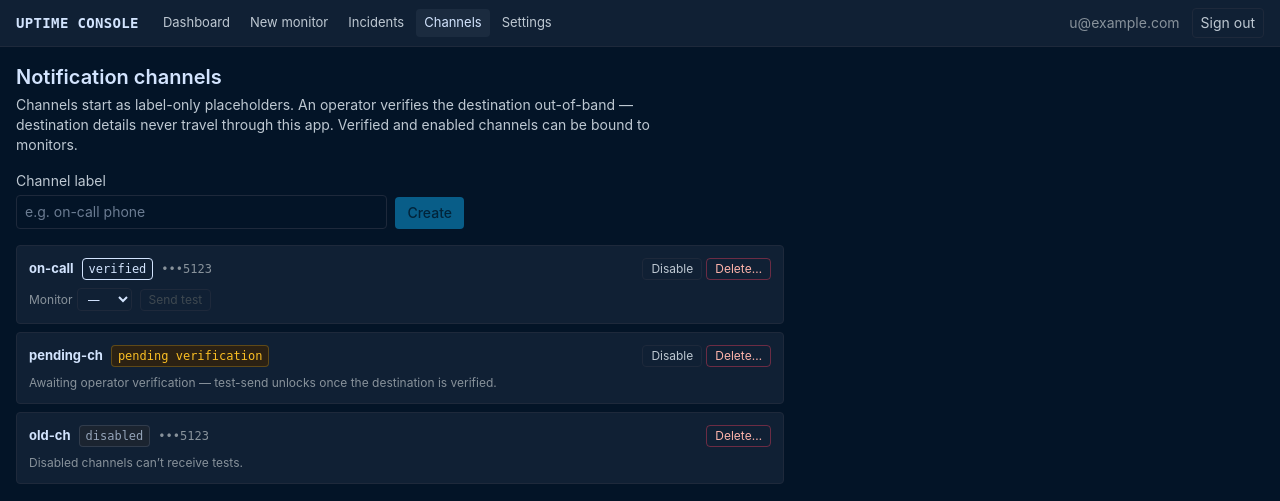
Test: channels page › duplicate-window 200 reports the earlier intent stands
Select "site" in the dropdown labelled "Monitor" at (104, 300), box [77,288,132,311]
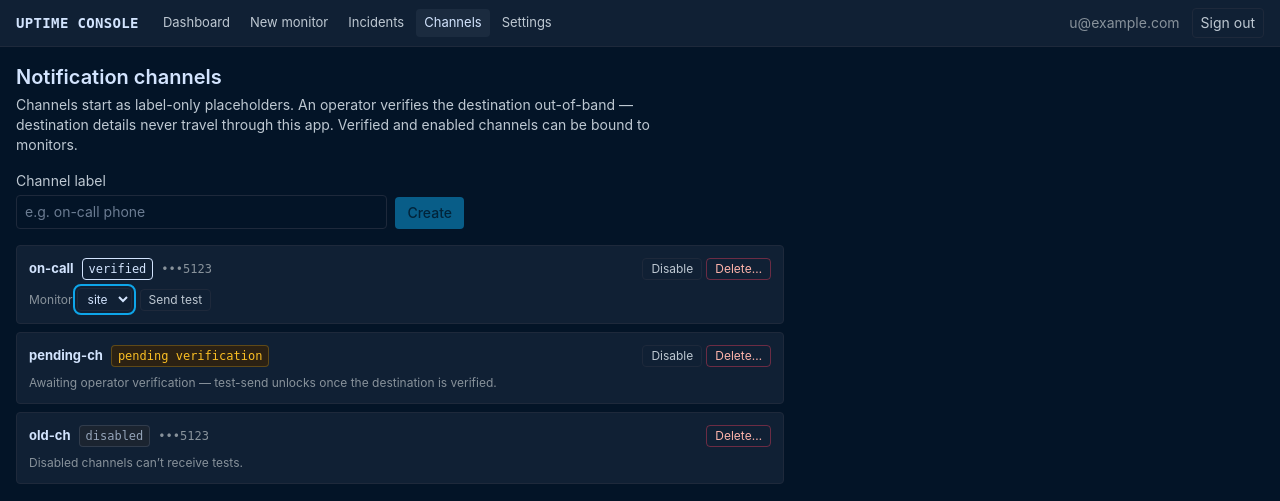
Click the button "Send test".
click(175, 300)  # box [140,288,211,310]
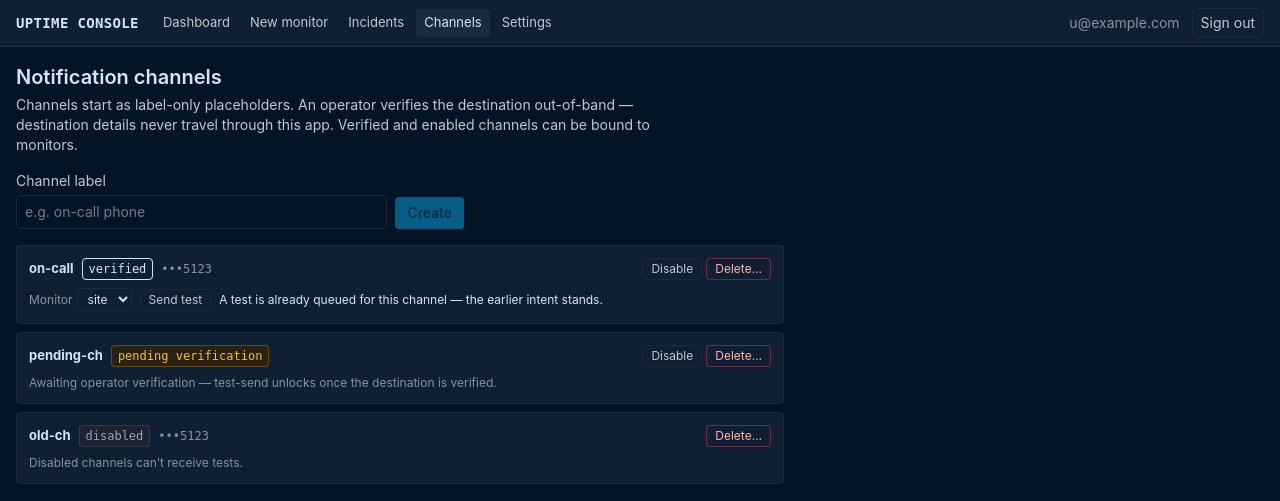
expect the text "A test is already queued for this channel — the earlier intent stands." is shown: met, box [219,292,603,308]
